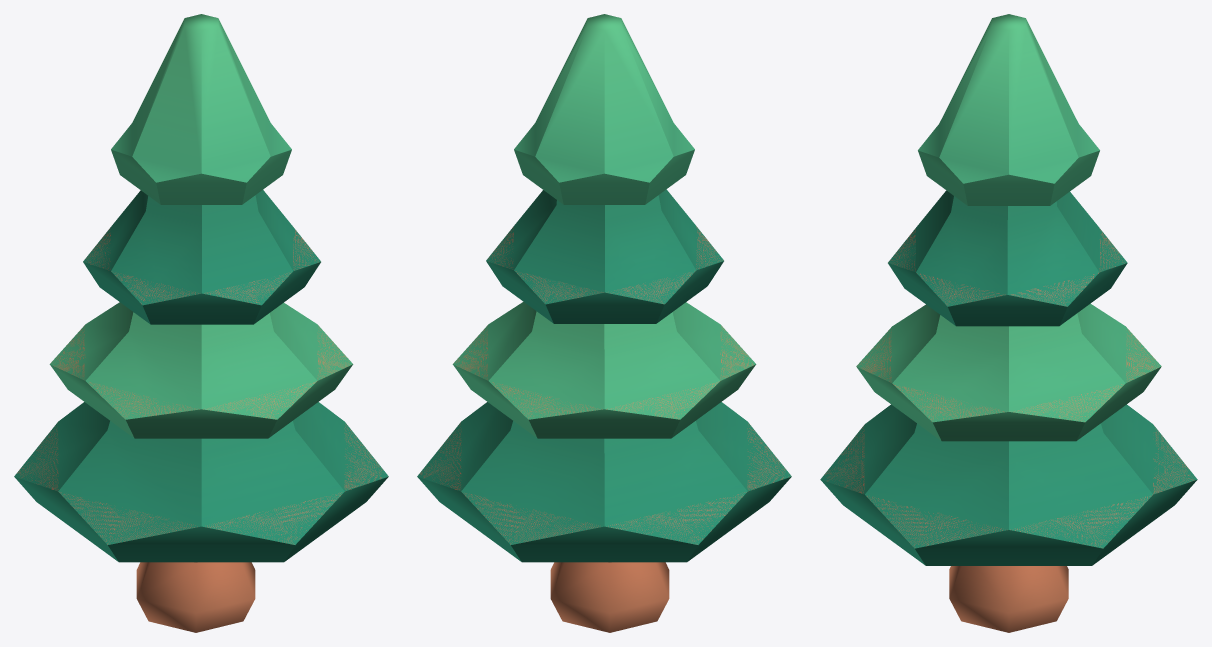
The model's file is cc0-pine-lod1.glb.
3 views of the same model, side by side, from view 1: azimuth 30°, elevation 25°; view 2: azimuth 150°, elevation 25°; view 3: azimuth 270°, elevation 25° (orthographic).
Visible parts, largest first — view 1: part_0; view 2: part_0; view 3: part_0.
Boxes of the visible parts, x1,y1,x2,y2 form: part_0: (14, 14, 388, 632); part_0: (417, 14, 791, 632); part_0: (820, 14, 1197, 632).
Size of the model in its own units: 1.18 by 2.3 by 1.33.
Materials: 1 (1 with a texture image).
